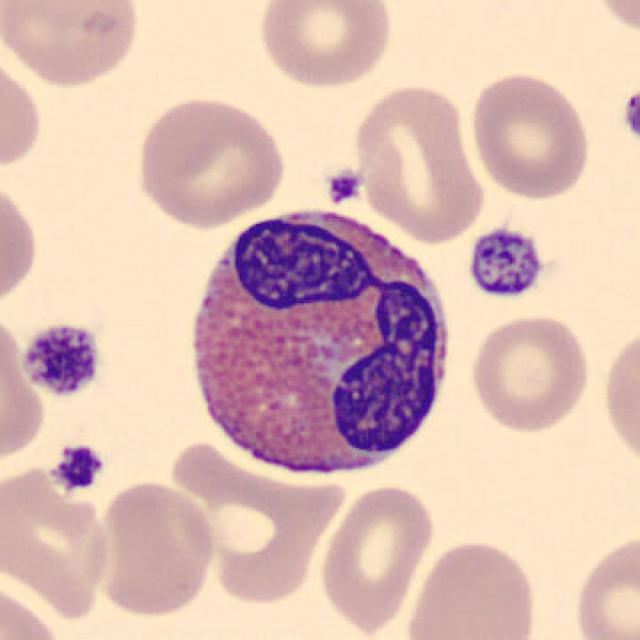Eosinophil: (174, 194, 459, 492)
Platelets: (18, 318, 105, 400), (462, 224, 548, 301), (49, 441, 106, 494), (322, 164, 366, 206), (618, 86, 640, 144)
RBC: (166, 444, 350, 606), (348, 79, 489, 245), (132, 92, 290, 229), (315, 479, 437, 636), (89, 476, 219, 621), (466, 69, 594, 203), (466, 310, 594, 436), (402, 536, 542, 640), (253, 0, 397, 92), (0, 0, 146, 90), (569, 529, 640, 640), (0, 308, 48, 471), (597, 319, 640, 476), (0, 173, 43, 312), (0, 52, 44, 176), (0, 576, 67, 640), (586, 0, 640, 40)
